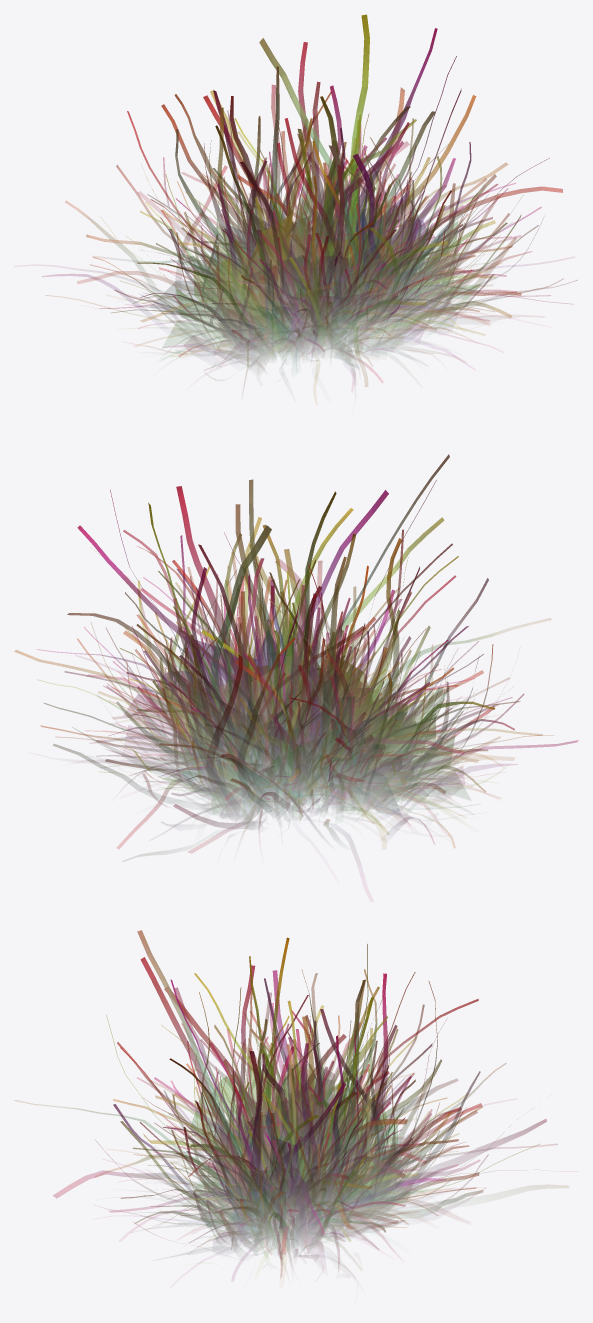
The model's file is vczndjqja_tier_2.gltf.
3 views of the same model, one above another, from view 1: azimuth 30°, elevation 25°; view 2: azimuth 150°, elevation 25°; view 3: azimuth 270°, elevation 25° (orthographic). The views are drawn at different scales.
Visible parts, largest first — view 1: SM_vczndjqja_VarA, SM_vczndjqja_VarG, SM_vczndjqja_VarD, SM_vczndjqja_VarE, SM_vczndjqja_VarF, SM_vczndjqja_VarH; view 2: SM_vczndjqja_VarA, SM_vczndjqja_VarD, SM_vczndjqja_VarG, SM_vczndjqja_VarE, SM_vczndjqja_VarF, SM_vczndjqja_VarH, SM_vczndjqja_VarB; view 3: SM_vczndjqja_VarA, SM_vczndjqja_VarG, SM_vczndjqja_VarD, SM_vczndjqja_VarE, SM_vczndjqja_VarF, SM_vczndjqja_VarH.
Boxes of the visible parts, x1,y1,x2,y2 form: SM_vczndjqja_VarA: [42, 14, 574, 386]; SM_vczndjqja_VarG: [145, 42, 531, 368]; SM_vczndjqja_VarD: [46, 90, 577, 356]; SM_vczndjqja_VarE: [151, 153, 516, 382]; SM_vczndjqja_VarF: [112, 168, 521, 383]; SM_vczndjqja_VarH: [202, 38, 415, 346]; SM_vczndjqja_VarA: [14, 479, 578, 859]; SM_vczndjqja_VarD: [40, 508, 553, 853]; SM_vczndjqja_VarG: [53, 491, 517, 860]; SM_vczndjqja_VarE: [94, 586, 498, 817]; SM_vczndjqja_VarF: [44, 559, 514, 834]; SM_vczndjqja_VarH: [165, 454, 474, 756]; SM_vczndjqja_VarB: [247, 666, 429, 803]; SM_vczndjqja_VarA: [15, 957, 506, 1280]; SM_vczndjqja_VarG: [164, 956, 568, 1256]; SM_vczndjqja_VarD: [95, 937, 557, 1254]; SM_vczndjqja_VarE: [113, 1029, 481, 1268]; SM_vczndjqja_VarF: [121, 1015, 458, 1276]; SM_vczndjqja_VarH: [137, 930, 368, 1231].
Size of what is drawn, in the model's own units: 1.58 by 0.9148 by 1.67.
1 material, 1 textured.
